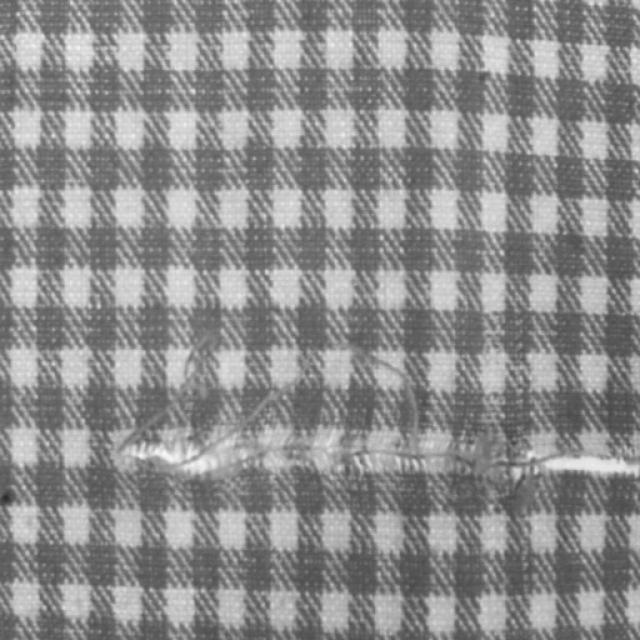Hole-Defect: (121, 425, 639, 481)
